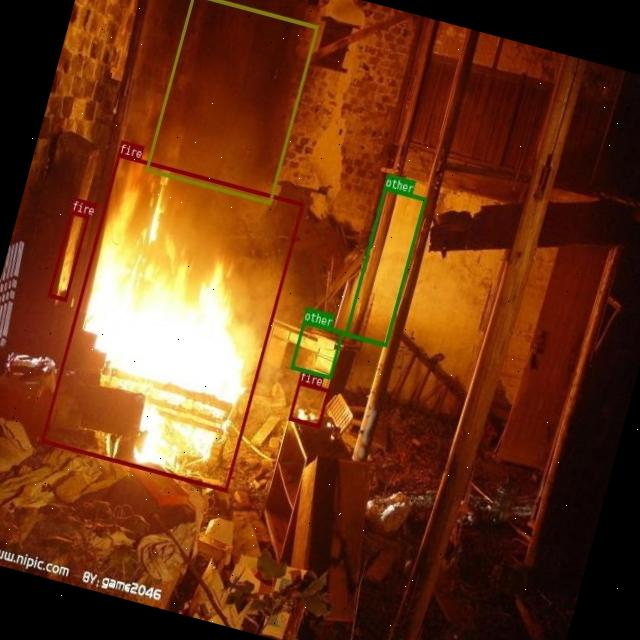fire: (40, 152, 303, 491), (47, 210, 88, 300), (288, 380, 330, 428)
smoke: (144, 0, 318, 204)
